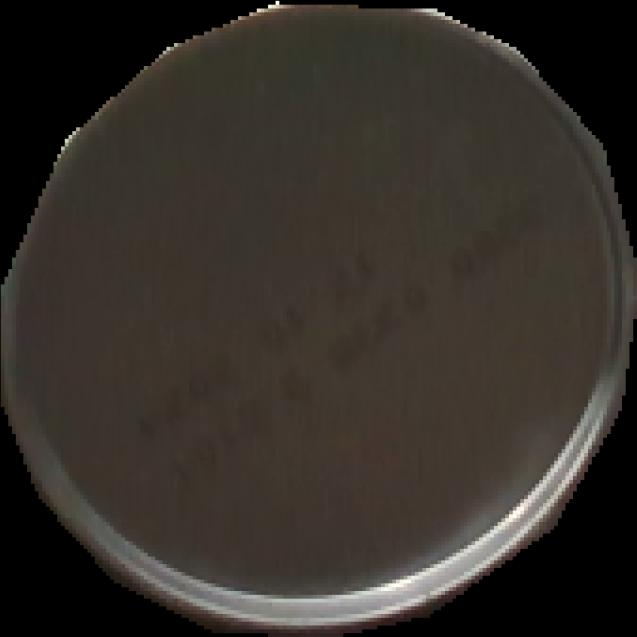bottom: (1, 1, 637, 637)
